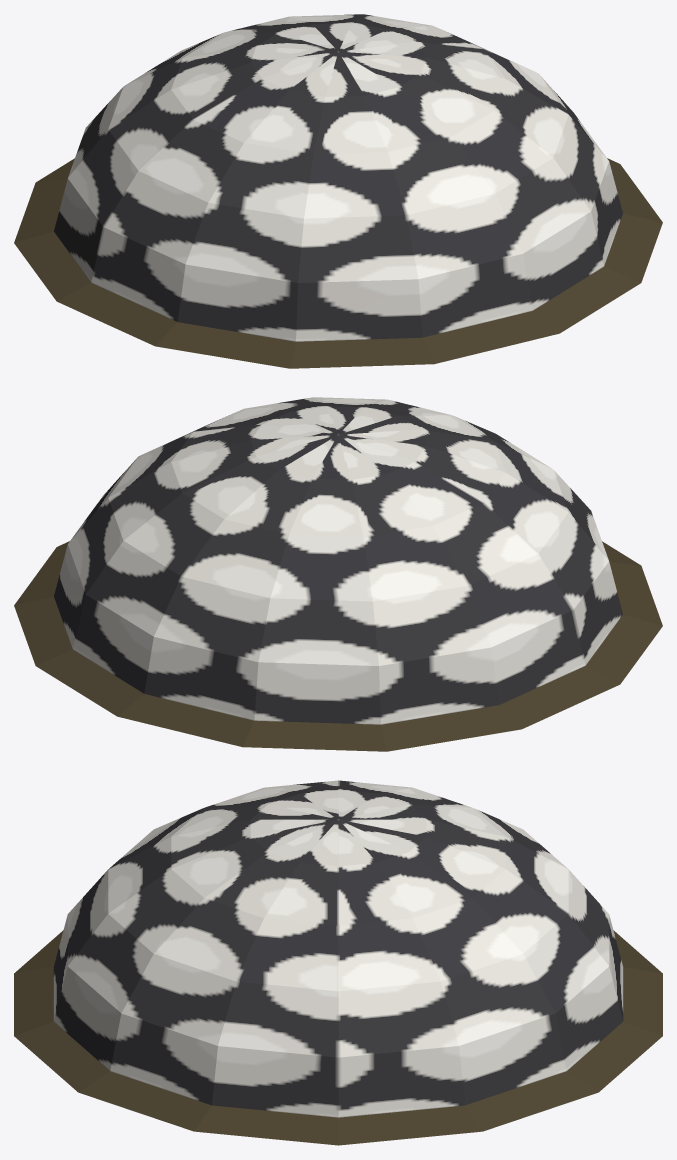
Rendered from shell.obj.
3 renders of one model, top to bottom at view 1: azimuth 30°, elevation 25°; view 2: azimuth 150°, elevation 25°; view 3: azimuth 270°, elevation 25°, orthographic. The views are drawn at different scales.
Size of the model in its own units: 1.14 by 0.35 by 1.11.
3 materials, 1 textured.
